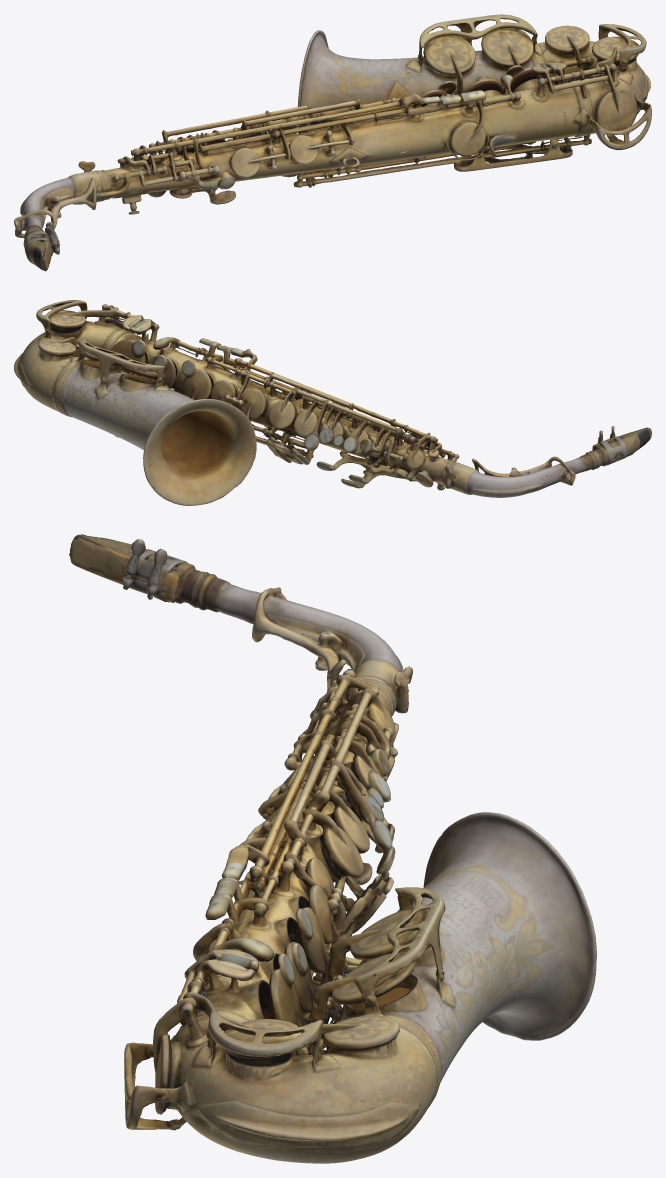
File: charlie-parker-alto-mobile.glb
The picture shows the model from 3 angles, top to bottom: view 1: azimuth 30°, elevation 25°; view 2: azimuth 150°, elevation 25°; view 3: azimuth 270°, elevation 25°; orthographic projection. The views are drawn at different scales.
Size of the model in its own units: 26.15 by 4.8 by 10.46.
1 material, 1 textured.
